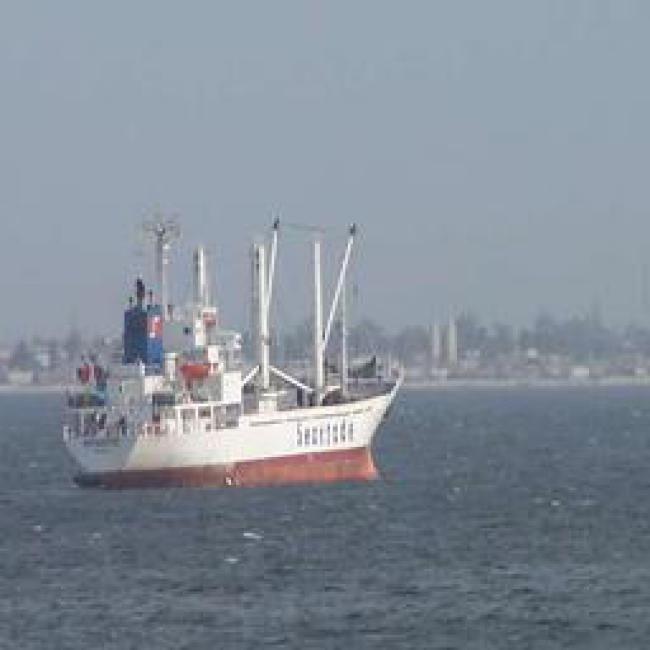Ship: (29, 318, 455, 512)
